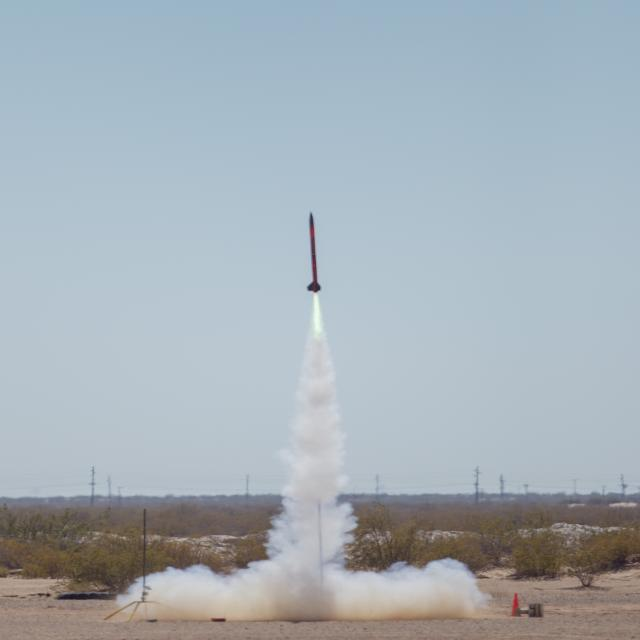Rocket: (306, 210, 321, 294)
